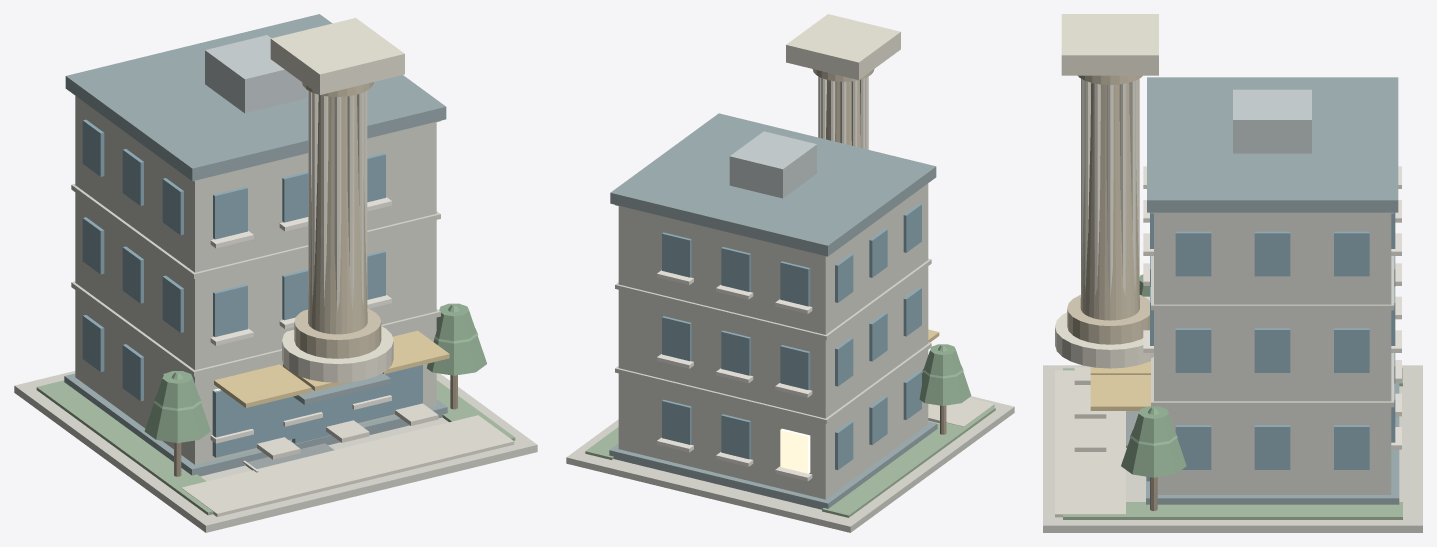
Rendered from remaster_shop_8.glb.
The picture shows the model from 3 angles, left to right: view 1: azimuth 30°, elevation 25°; view 2: azimuth 150°, elevation 25°; view 3: azimuth 270°, elevation 25°; orthographic projection. The views are drawn at different scales.
Visible parts, largest first — view 1: remaster_shop_8 stone, remaster_shop_8 roof, remaster_shop_8 glass, remaster_shop_8 cream, Tapered shaft.005, Capital.005, remaster_shop_8 leaf, remaster_shop_8 green, remaster_shop_8 metal, remaster_shop_8 gold, Column foot.005, Column ring.005 (+9 smaller); view 2: remaster_shop_8 stone, remaster_shop_8 roof, remaster_shop_8 glass, Capital.005, remaster_shop_8 metal, remaster_shop_8 green, remaster_shop_8 white, remaster_shop_8 leaf, Tapered shaft.005, remaster_shop_8 warm, remaster_shop_8 cream; view 3: remaster_shop_8 stone, remaster_shop_8 roof, remaster_shop_8 glass, remaster_shop_8 cream, Tapered shaft.005, Capital.005, remaster_shop_8 metal, remaster_shop_8 green, remaster_shop_8 leaf, remaster_shop_8 gold, Column foot.005, Column ring.005 (+9 smaller).
Part boxes in pixels (bbox=[...]): remaster_shop_8 stone: bbox=[14, 96, 537, 532]; remaster_shop_8 roof: bbox=[64, 14, 447, 476]; remaster_shop_8 glass: bbox=[82, 119, 422, 457]; remaster_shop_8 cream: bbox=[181, 403, 514, 516]; Tapered shaft.005: bbox=[308, 95, 367, 334]; Capital.005: bbox=[270, 18, 404, 94]; remaster_shop_8 leaf: bbox=[144, 303, 486, 443]; remaster_shop_8 green: bbox=[36, 380, 515, 515]; remaster_shop_8 metal: bbox=[205, 35, 306, 113]; remaster_shop_8 gold: bbox=[214, 330, 449, 407]; Column foot.005: bbox=[282, 326, 393, 382]; Column ring.005: bbox=[294, 308, 381, 358]; remaster_shop_8 stone: bbox=[566, 183, 1014, 532]; remaster_shop_8 roof: bbox=[609, 113, 937, 509]; remaster_shop_8 glass: bbox=[662, 204, 921, 469]; Capital.005: bbox=[786, 14, 900, 80]; remaster_shop_8 metal: bbox=[729, 131, 816, 198]; remaster_shop_8 green: bbox=[585, 407, 995, 517]; remaster_shop_8 white: bbox=[657, 270, 812, 481]; remaster_shop_8 leaf: bbox=[919, 344, 971, 405]; Tapered shaft.005: bbox=[826, 80, 860, 147]; remaster_shop_8 warm: bbox=[780, 428, 810, 473]; remaster_shop_8 cream: bbox=[928, 398, 994, 426]; remaster_shop_8 stone: bbox=[1043, 212, 1422, 532]; remaster_shop_8 roof: bbox=[1146, 77, 1399, 504]; remaster_shop_8 glass: bbox=[1146, 212, 1395, 481]; remaster_shop_8 cream: bbox=[1055, 367, 1125, 517]; Tapered shaft.005: bbox=[1080, 83, 1139, 320]; Capital.005: bbox=[1061, 14, 1158, 75]; remaster_shop_8 metal: bbox=[1233, 89, 1311, 153]; remaster_shop_8 green: bbox=[1063, 368, 1402, 519]; remaster_shop_8 leaf: bbox=[1121, 274, 1186, 477]; remaster_shop_8 gold: bbox=[1090, 361, 1150, 410]; Column foot.005: bbox=[1055, 312, 1153, 368]; Column ring.005: bbox=[1067, 295, 1149, 344].
Bounding box in the file's own units: 9.64 × 11.66 × 9.6.
